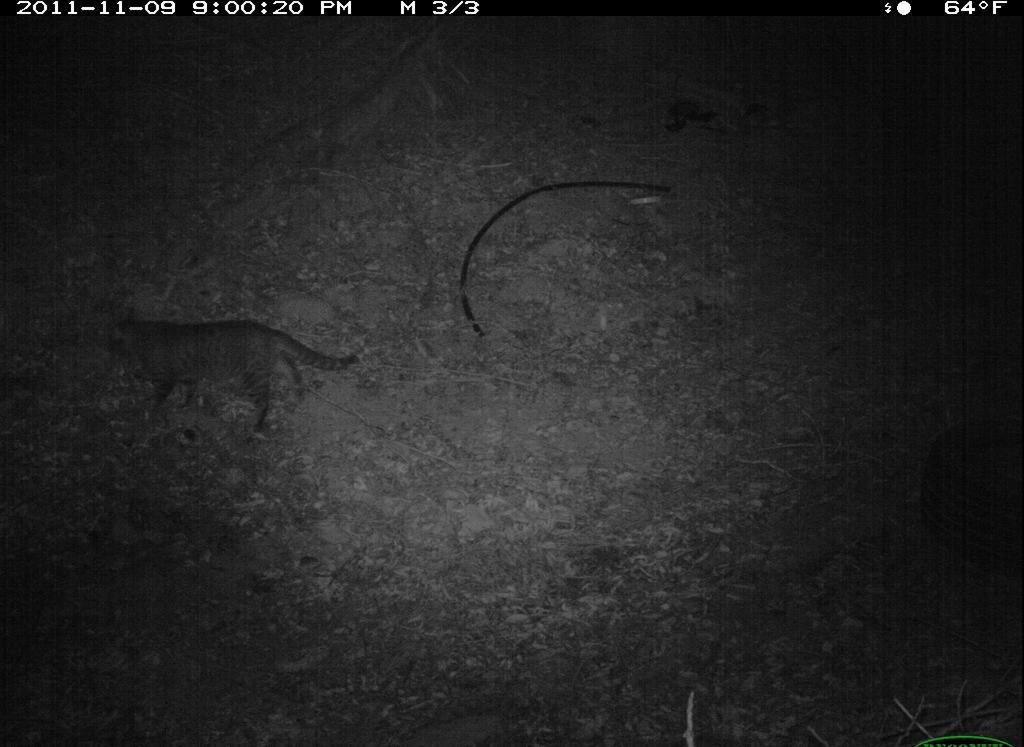cat: (103, 312, 363, 440)
